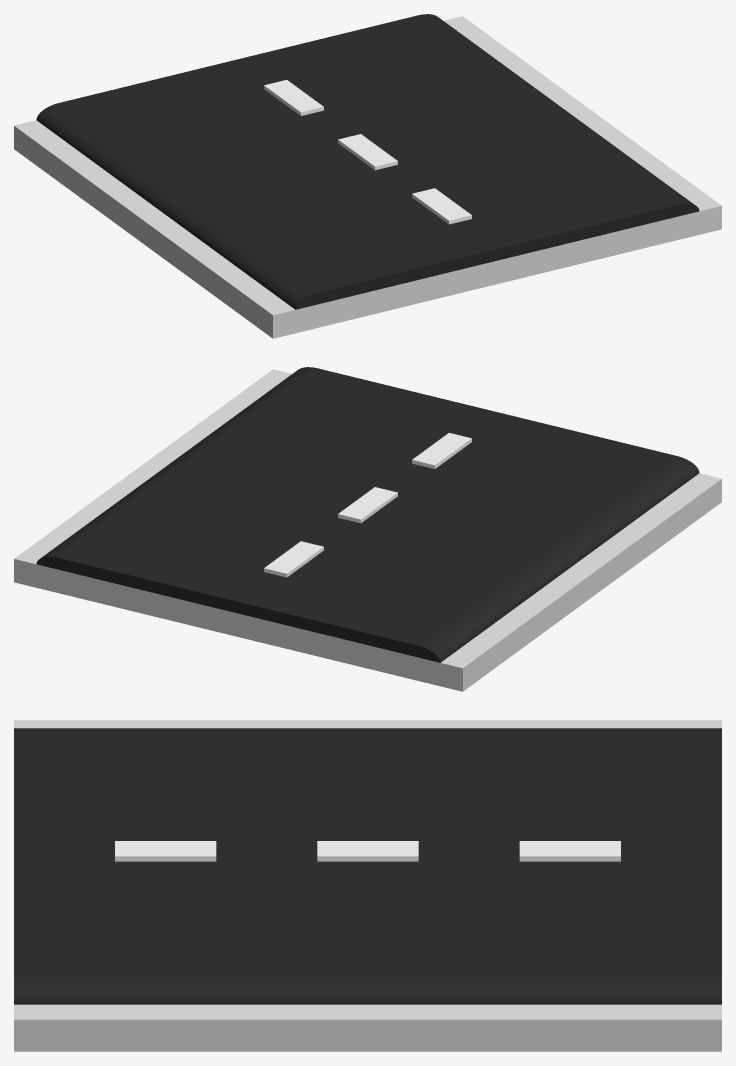
File: Road.fbx
3 views of the same model, one above another, from view 1: azimuth 30°, elevation 25°; view 2: azimuth 150°, elevation 25°; view 3: azimuth 270°, elevation 25° (orthographic). The views are drawn at different scales.
Parts seen in each view (by area): view 1: Road, Ground; view 2: Road, Ground; view 3: Road, Ground.
Part boxes in pixels (x1,y1,x2,y2): Road: (36, 14, 699, 309); Ground: (14, 16, 721, 338); Road: (36, 367, 699, 662); Ground: (14, 369, 721, 691); Road: (14, 728, 721, 1004); Ground: (14, 720, 721, 1051).
Size of the model in its own units: 1000 by 82.99 by 1000.
Materials: 1 (1 with a texture image).
